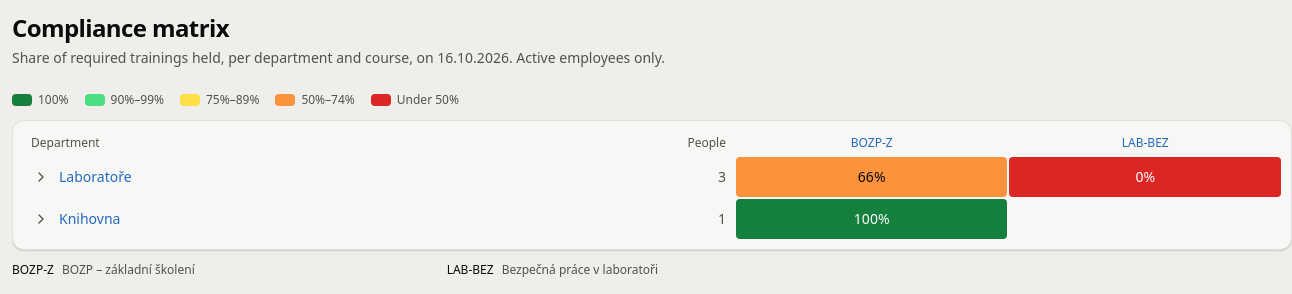
Test case: compliance matrix › prints every percentage, and says where a course does not apply
Expected: the button "66%" is shown, [736, 157, 1007, 197]
# A cell says what it counts on hover.
Hover over the button "0%" at [1145, 177], box [1010, 157, 1281, 197]
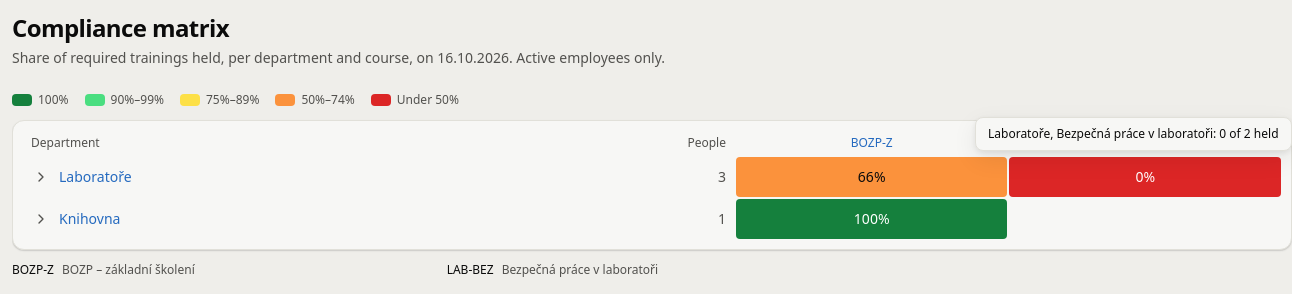
Expected: the tooltip reads "Laboratoře, Bezpečná práce v laboratoři: 0 of 2 held", [988, 125, 1278, 142]
